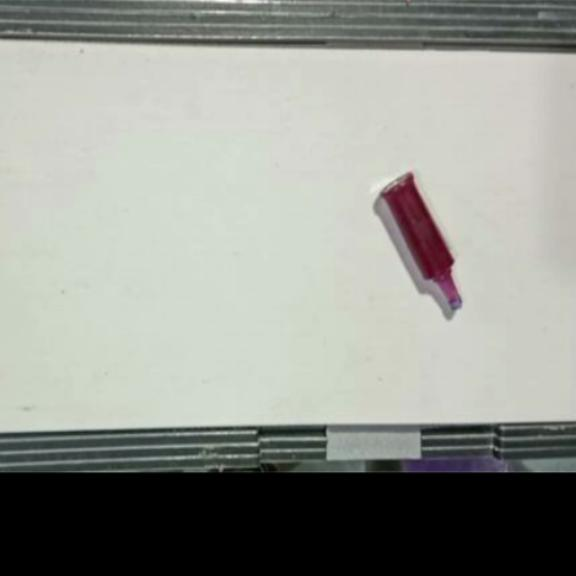Plastik: (380, 171, 464, 313)
